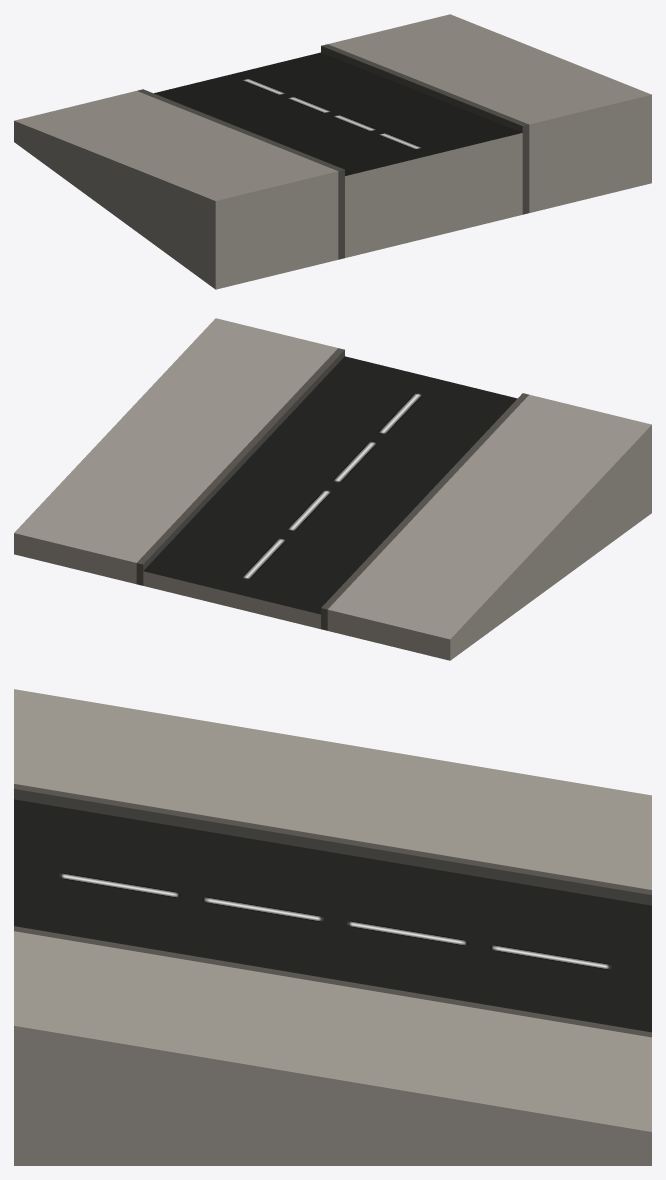
The model's file is Road_Road07.fbx.
3 renders of one model, top to bottom at view 1: azimuth 30°, elevation 25°; view 2: azimuth 150°, elevation 25°; view 3: azimuth 270°, elevation 25°, orthographic. The views are drawn at different scales.
Visible parts, largest first — view 1: Road_Road07; view 2: Road_Road07; view 3: Road_Road07.
Boxes of the visible parts, bbox=[...] form: Road_Road07: bbox=[14, 14, 651, 289]; Road_Road07: bbox=[14, 318, 651, 660]; Road_Road07: bbox=[14, 689, 651, 1165].
Bounding box in the file's own units: 1696 × 329 × 1359.
